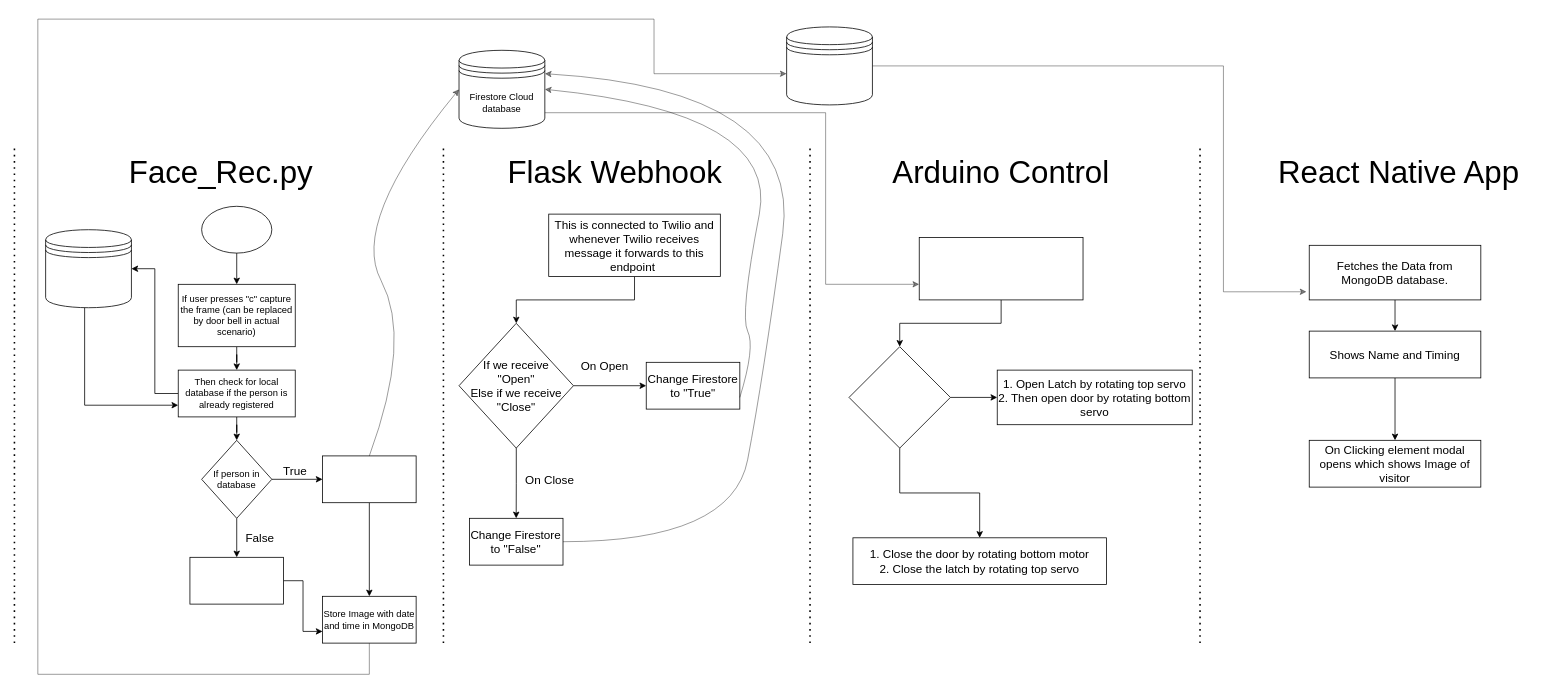
Some shapes in this 1564 by 694 pixel diagram are drawn without their labels. The box of each missing label's shape, as (x1, y1, x2, y2) in pixels:
Change Firestore Boolean Value to True and False after delay of 5 seconds: (322, 455, 416, 503)
Check for Firestore: (918, 237, 1083, 300)
If Value is True: (848, 346, 950, 448)
Local Database (in form txt files): (45, 229, 131, 308)
MongoDB Atlas: (786, 26, 872, 105)
Send WhatsApp Message to owner: (189, 557, 284, 604)
START: (201, 206, 272, 253)
